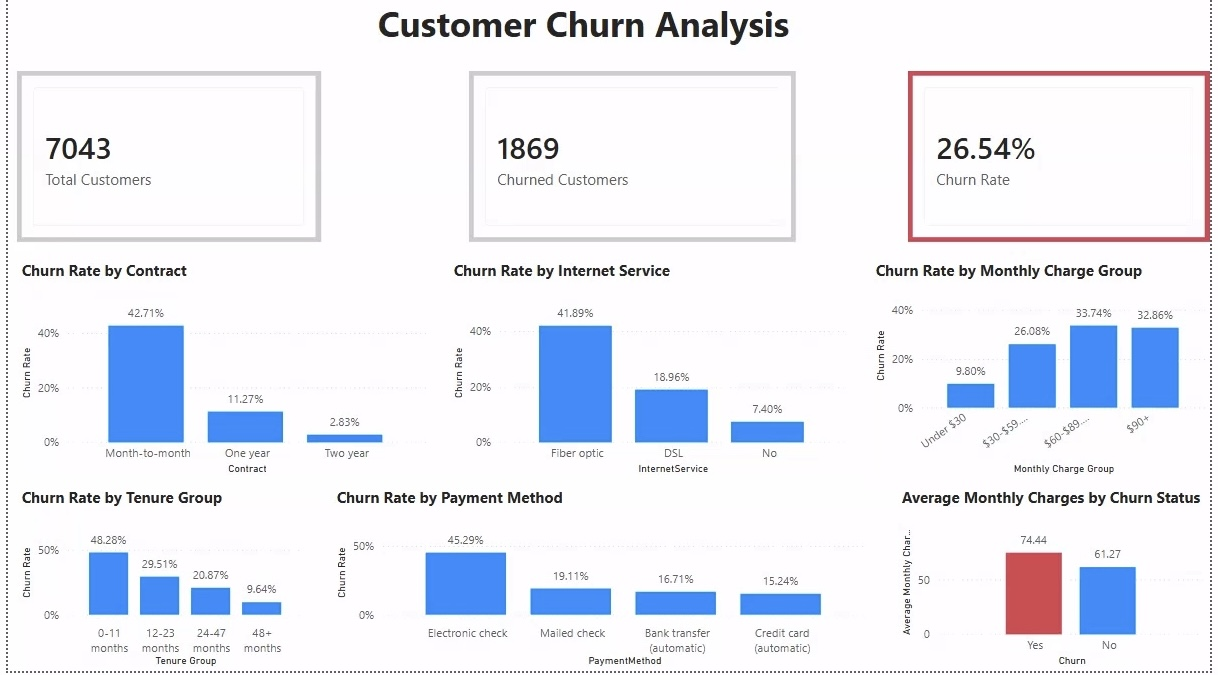

This screenshot's page, from the dashboard's own definition file:
{"tool":"powerbi","page":{"name":"Page 1","canvas":[1280,720],"ordinal":0},"visuals":[{"type":"cardVisual","fields":{"Data":["telco_customer_churn_cleaned.Total Customers"]},"box":[9.6,80.9,323.8,182.1],"z":0},{"type":"cardVisual","fields":{"Data":["telco_customer_churn_cleaned.Churned Customers"]},"box":[491,80.9,348.3,182.1],"z":1000},{"type":"cardVisual","fields":{"Data":["telco_customer_churn_cleaned.Churn Rate"]},"box":[958.6,80.9,321.7,182.1],"z":2000},{"type":"clusteredColumnChart","fields":{"Category":["telco_customer_churn_cleaned.Contract"],"Y":["telco_customer_churn_cleaned.Churn Rate"]},"box":[9.6,282.2,440.9,233.3],"z":3000},{"type":"clusteredColumnChart","title":"Churn Rate by Internet Service","fields":{"Y":["telco_customer_churn_cleaned.Churn Rate"],"Category":["telco_customer_churn_cleaned.InternetService"]},"box":[469.7,282.2,428.2,233.3],"z":4000},{"type":"clusteredColumnChart","title":"Churn Rate by Payment Method","fields":{"Y":["telco_customer_churn_cleaned.Churn Rate"],"Category":["telco_customer_churn_cleaned.PaymentMethod"]},"box":[345.1,524,574.1,196],"z":5000},{"type":"clusteredColumnChart","title":"Average Monthly Charges by Churn Status ","fields":{"Y":["Avg(telco_customer_churn_cleaned.MonthlyCharges)"],"Category":["telco_customer_churn_cleaned.Churn"]},"box":[946.9,524,333.4,196],"z":6000},{"type":"clusteredColumnChart","fields":{"Category":["telco_customer_churn_cleaned.Monthly Charge Group"],"Y":["telco_customer_churn_cleaned.Churn Rate"]},"box":[919.2,282.2,361.1,233.3],"z":7000},{"type":"clusteredColumnChart","fields":{"Y":["telco_customer_churn_cleaned.Churn Rate"],"Category":["telco_customer_churn_cleaned.Tenure Group"]},"box":[9.6,524,309.9,196],"z":8000},{"type":"textbox","box":[388.8,0,450.5,80.9],"z":9000}]}

Visuals, with their boxes in screenshot pixels (x1, y1, x2, y2), scaled from the page's 1280x720 canvas onto the 1218x675 screenshot:
cardVisual - telco_customer_churn_cleaned.Total Customers: locate(9, 76, 317, 247)
cardVisual - telco_customer_churn_cleaned.Churned Customers: locate(467, 76, 799, 247)
cardVisual - telco_customer_churn_cleaned.Churn Rate: locate(912, 76, 1217, 247)
clusteredColumnChart - telco_customer_churn_cleaned.Contract x telco_customer_churn_cleaned.Churn Rate: locate(9, 265, 429, 483)
"Churn Rate by Internet Service" clusteredColumnChart: locate(447, 265, 854, 483)
"Churn Rate by Payment Method" clusteredColumnChart: locate(328, 491, 875, 674)
"Average Monthly Charges by Churn Status " clusteredColumnChart: locate(901, 491, 1217, 674)
clusteredColumnChart - telco_customer_churn_cleaned.Monthly Charge Group x telco_customer_churn_cleaned.Churn Rate: locate(875, 265, 1217, 483)
clusteredColumnChart - telco_customer_churn_cleaned.Churn Rate x telco_customer_churn_cleaned.Tenure Group: locate(9, 491, 304, 674)
textbox: locate(370, 0, 799, 76)
